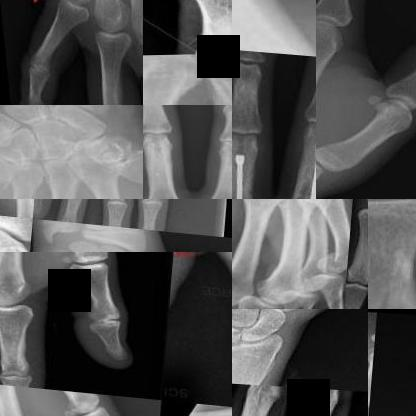fracture: (368, 251, 415, 309), (167, 63, 231, 105), (286, 126, 316, 198), (232, 136, 263, 198), (50, 0, 96, 24), (326, 242, 349, 268)
